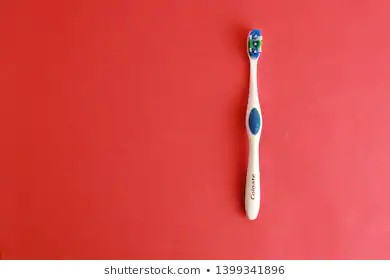toothbrush: (234, 28, 271, 222)
